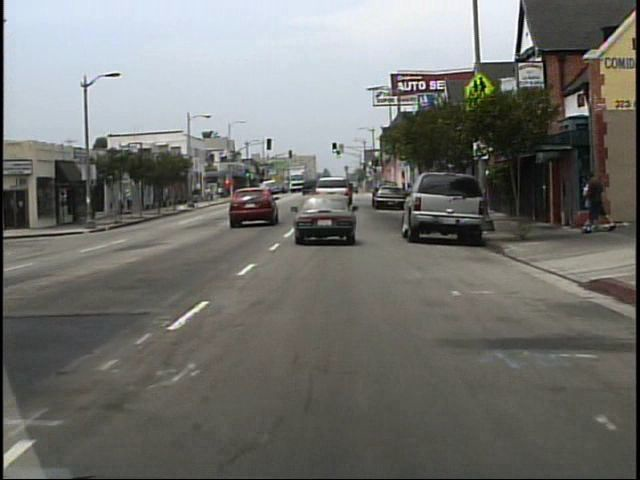person: (586, 165, 613, 233), (581, 173, 602, 232), (126, 186, 137, 214)
